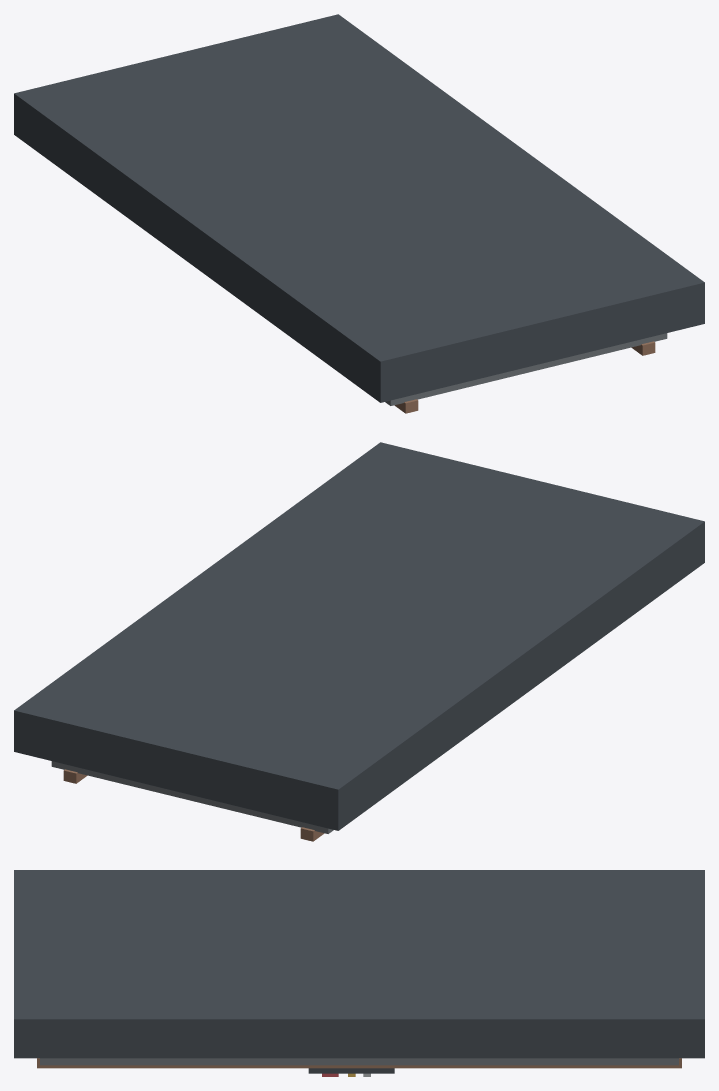
Rendered from door-locked-keypad.glb.
3 renders of one model, top to bottom at view 1: azimuth 30°, elevation 25°; view 2: azimuth 150°, elevation 25°; view 3: azimuth 270°, elevation 25°, orthographic. The views are drawn at different scales.
Parts seen in each view (by area): view 1: world; view 2: world; view 3: world.
Part boxes in pixels (x1=…): world: x1=14, y1=14, x2=704, y2=413; world: x1=14, y1=442, x2=704, y2=841; world: x1=14, y1=870, x2=704, y2=1076.
Size of the model in its own units: 1.15 by 0.2845 by 2.25.
